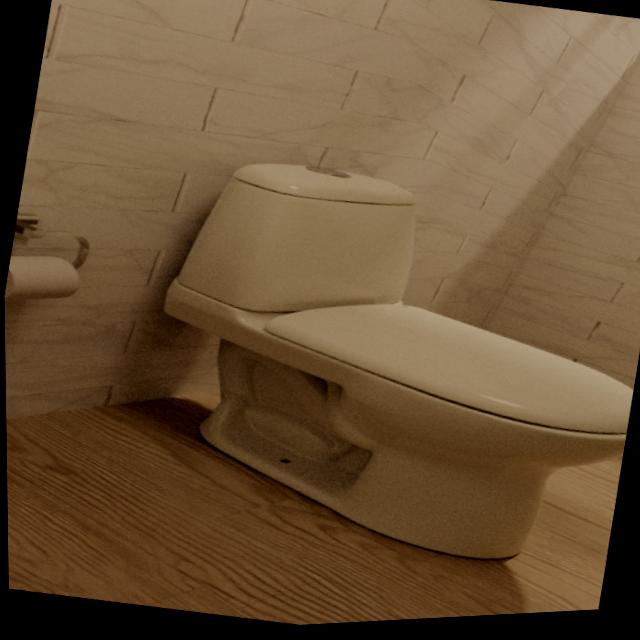toilet: (123, 132, 640, 599)
